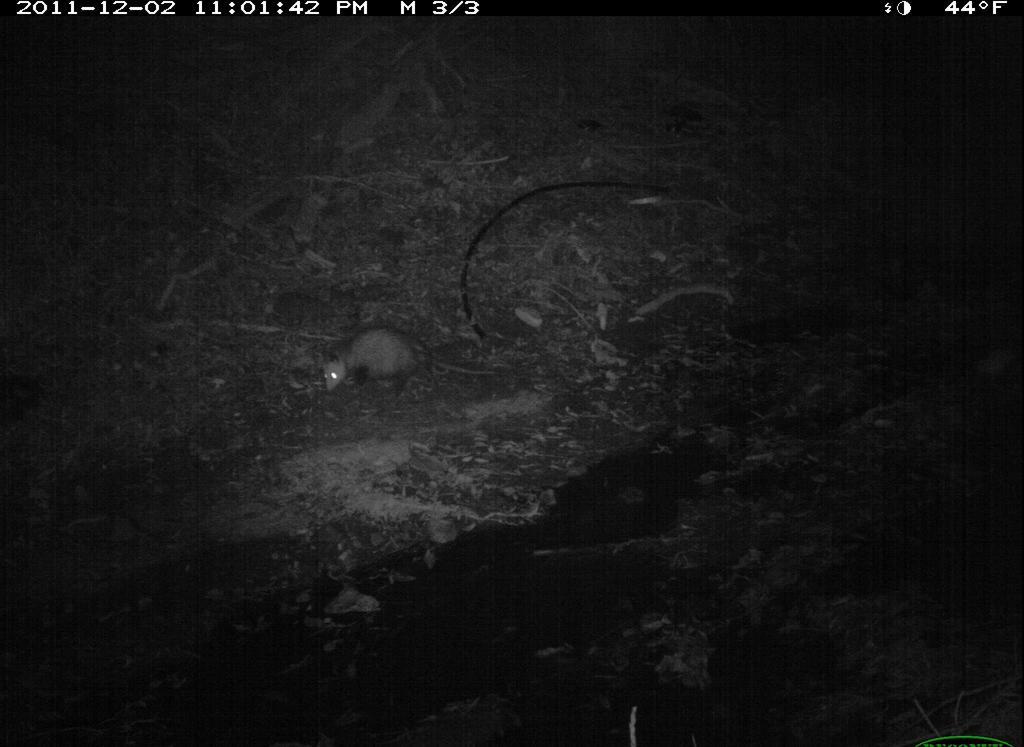opossum: (311, 313, 520, 417)
